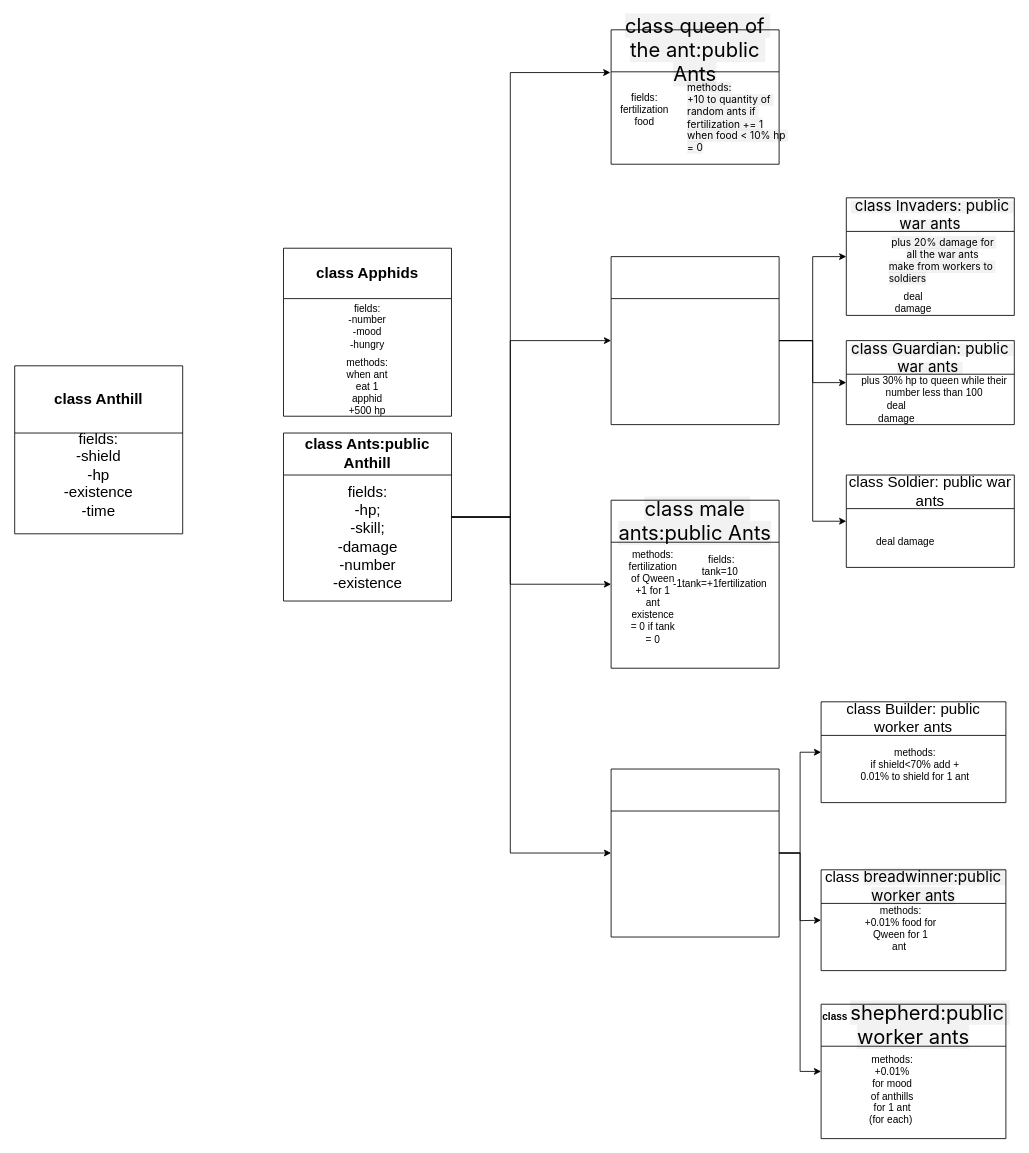
Image size: 1029x1153. Some labels were removed from this diagram. Here are the shapes that lost their labels. From the top down, the centre of each, then its label:
At pixel 694 340: "class war ants: public Ants".
At pixel 694 852: "class worker ants:public ants".
